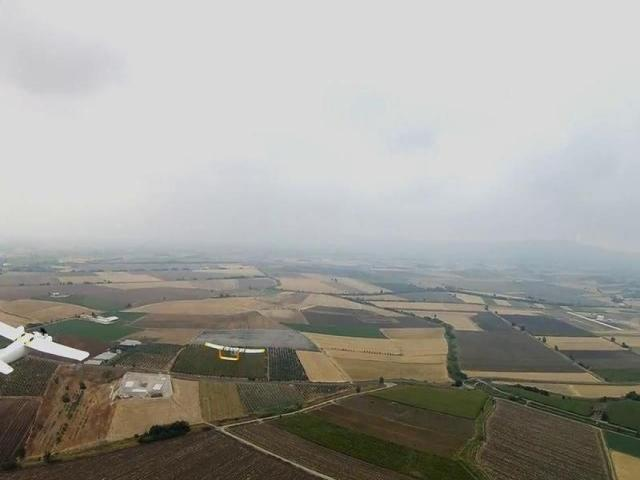hedef: (0, 308, 95, 392)
